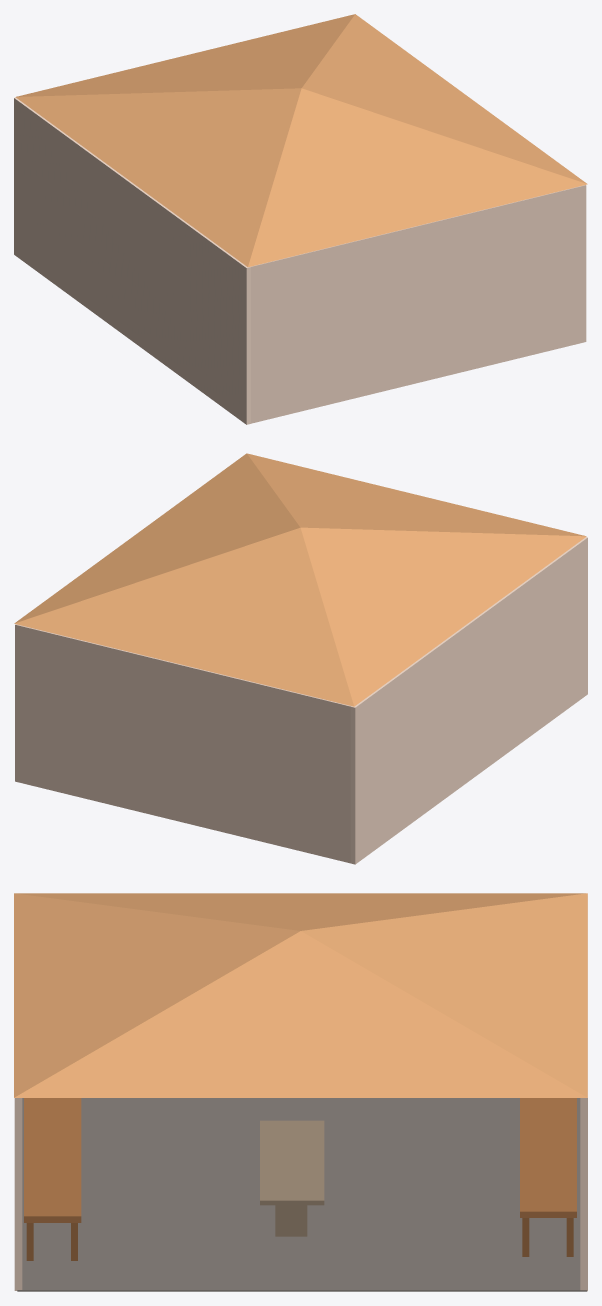
File: paredesok.glb
3 views of the same model, one above another, from view 1: azimuth 30°, elevation 25°; view 2: azimuth 150°, elevation 25°; view 3: azimuth 270°, elevation 25° (orthographic). The views are drawn at different scales.
Parts seen in each view (by area): view 1: Cubo.001, Cube.003, Cube.004; view 2: Cubo.001, Cube.001, Cube.004; view 3: Cubo.001, Cubo, Cubo.003, Cubo.008, Cubo.002, Cube.001, Cube.003.
Part boxes in pixels (x1,y1,x2,y2): Cubo.001: (15, 14, 587, 266); Cube.003: (250, 185, 586, 423); Cube.004: (14, 97, 250, 424); Cubo.001: (14, 453, 586, 706); Cube.001: (15, 624, 351, 863); Cube.004: (350, 537, 587, 864); Cubo.001: (14, 893, 587, 1097); Cubo: (17, 1098, 586, 1291); Cubo.003: (24, 1098, 81, 1260); Cubo.008: (520, 1098, 576, 1256); Cubo.002: (260, 1120, 324, 1236); Cube.001: (580, 896, 587, 1291); Cube.003: (14, 1098, 22, 1290).
Size of the model in its own units: 34.09 by 20.13 by 40.27.
